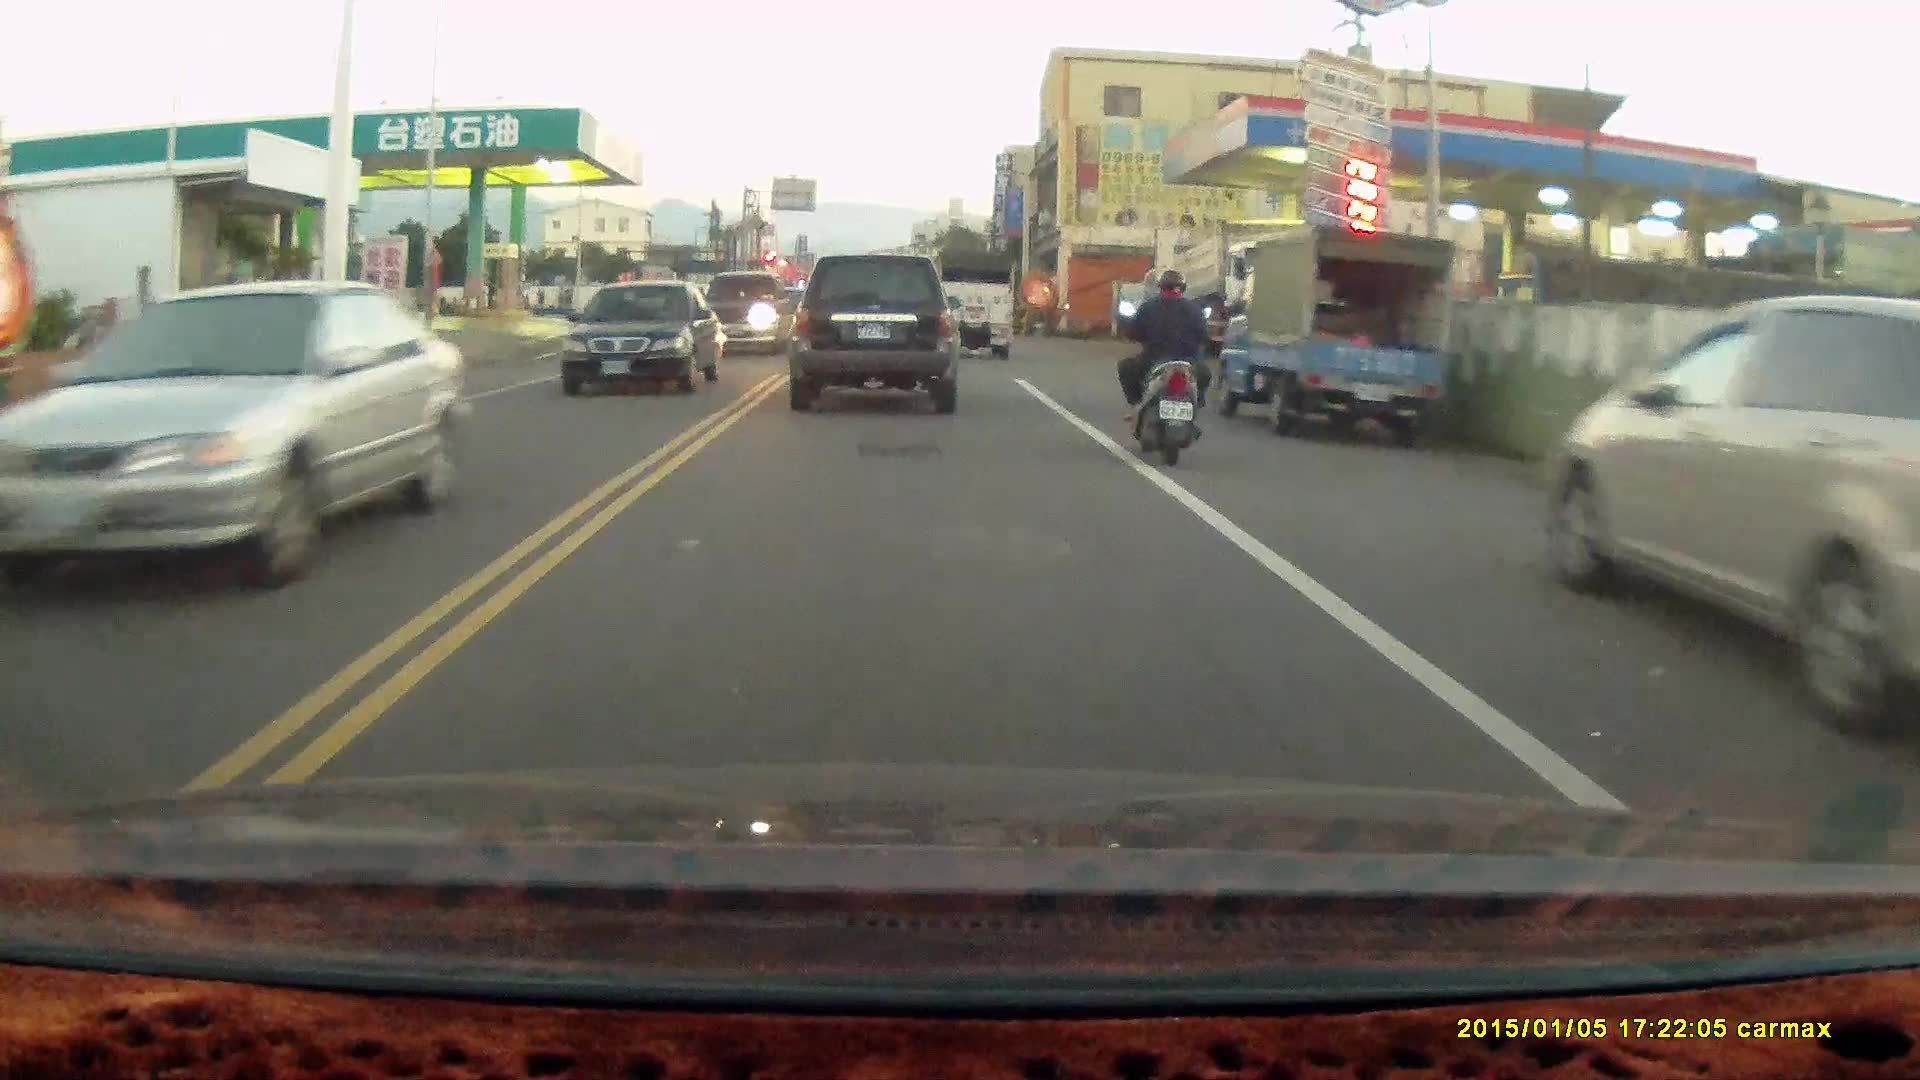rider: (1116, 270, 1217, 466)
vehicle: (1555, 293, 1920, 745), (1, 277, 465, 604), (1218, 222, 1456, 438), (787, 251, 960, 407), (563, 281, 725, 395), (922, 249, 1019, 360), (696, 269, 795, 363)
